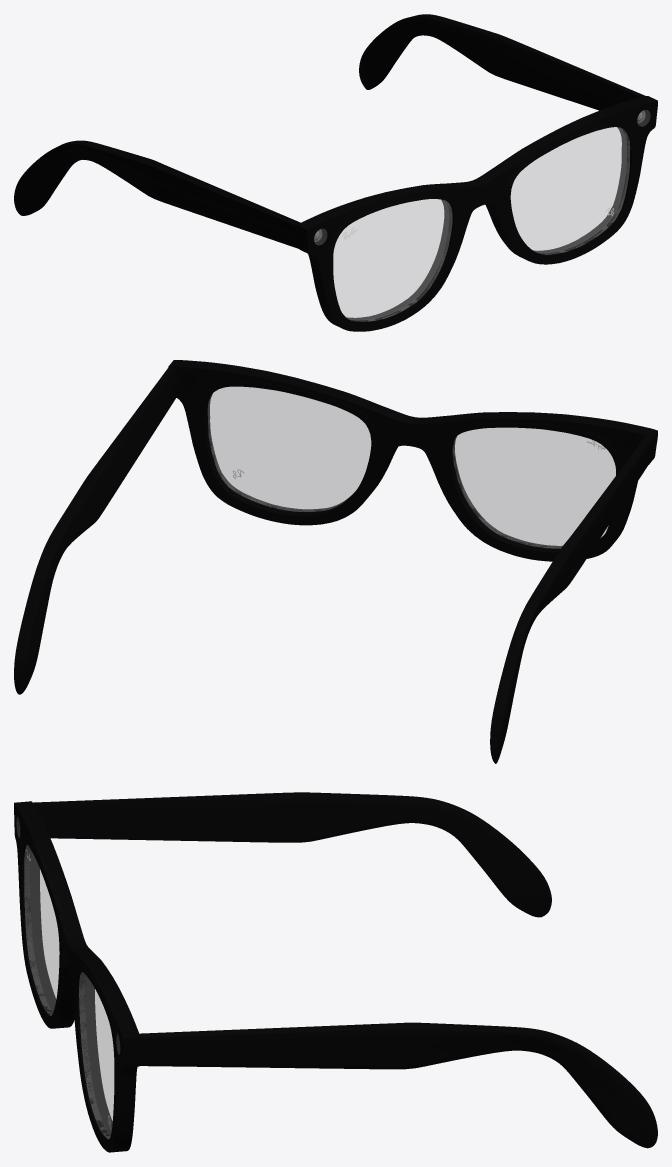
The model's file is ray-ban_meta_smart_glasses_3d_model.glb.
3 renders of one model, top to bottom at view 1: azimuth 30°, elevation 25°; view 2: azimuth 150°, elevation 25°; view 3: azimuth 270°, elevation 25°, orthographic. The views are drawn at different scales.
Visible parts, largest first — view 1: inside lens.002_7, legs.002_6, frame.005_9; view 2: inside lens.002_7, frame.005_9, legs.002_6; view 3: legs.002_6, frame.005_9, inside lens.002_7.
Part boxes in pixels (x1=…): inside lens.002_7: x1=333, y1=127, x2=629, y2=321; legs.002_6: x1=14, y1=14, x2=645, y2=248; frame.005_9: x1=297, y1=96, x2=657, y2=331; inside lens.002_7: x1=208, y1=387, x2=615, y2=548; frame.005_9: x1=168, y1=360, x2=657, y2=561; legs.002_6: x1=14, y1=368, x2=652, y2=763; legs.002_6: x1=33, y1=792, x2=657, y2=1148; frame.005_9: x1=14, y1=801, x2=140, y2=1152; inside lens.002_7: x1=24, y1=845, x2=113, y2=1138.
Size of the model in its own units: 53.27 by 14.17 by 51.87.
Materials: 8 (2 with a texture image).
